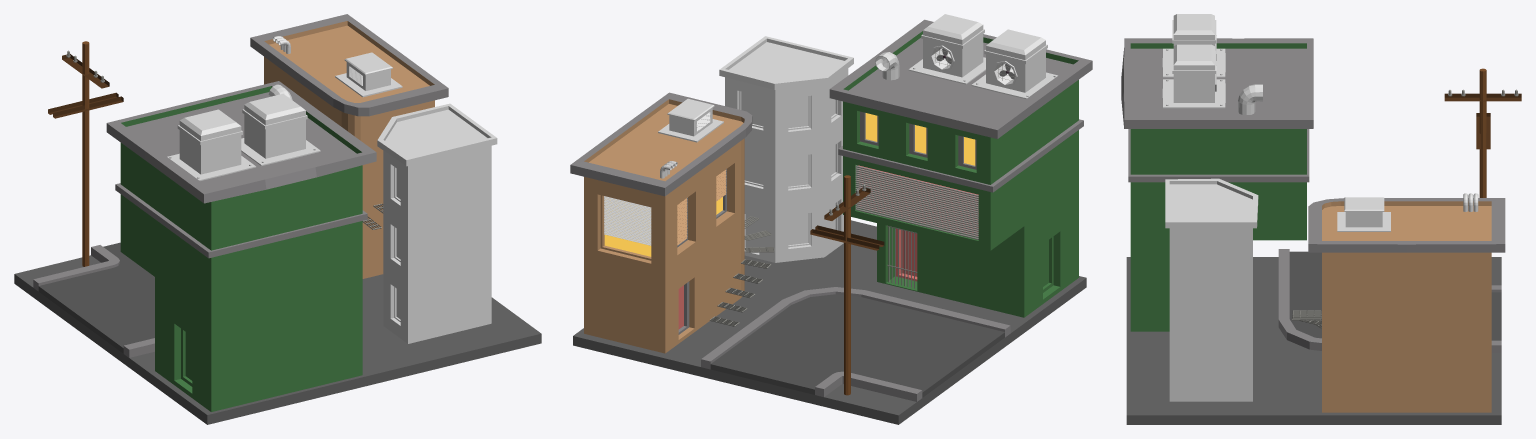
Rendered from cyber.glb.
The picture shows the model from 3 angles, left to right: view 1: azimuth 30°, elevation 25°; view 2: azimuth 150°, elevation 25°; view 3: azimuth 270°, elevation 25°; orthographic projection. The views are drawn at different scales.
Parts seen in each view (by area): view 1: Cube.001, Cube.002, Cube, Plane, Plane.001, Cube.005, Cube.006, Plane.009, Cube.007; view 2: Cube.001, Cube, Plane.001, Cube.002, Plane, Vert.005, Cube.006, Cube.005, Plane.009, story.002, Cube.007, Cube.003 (+3 smaller); view 3: Cube, Cube.001, Cube.002, Plane, Plane.001, Cube.006, Cube.005, Plane.009, Cube.007, Vert.001.
Part boxes in pixels (x1=…): Cube.001: x1=106, y1=81, x2=376, y2=411; Cube.002: x1=377, y1=103, x2=497, y2=343; Cube: x1=250, y1=14, x2=448, y2=278; Plane: x1=14, y1=255, x2=541, y2=424; Plane.001: x1=33, y1=242, x2=154, y2=357; Cube.005: x1=167, y1=109, x2=256, y2=180; Cube.006: x1=241, y1=93, x2=320, y2=165; Plane.009: x1=48, y1=41, x2=123, y2=266; Cube.007: x1=335, y1=52, x2=402, y2=97; Cube.001: x1=829, y1=19, x2=1092, y2=317; Cube: x1=570, y1=92, x2=752, y2=353; Plane.001: x1=701, y1=287, x2=1010, y2=401; Cube.002: x1=719, y1=36, x2=853, y2=262; Plane: x1=573, y1=220, x2=1086, y2=424; Vert.005: x1=855, y1=165, x2=978, y2=239; Cube.006: x1=908, y1=14, x2=985, y2=84; Cube.005: x1=971, y1=29, x2=1057, y2=98; Plane.009: x1=810, y1=175, x2=884, y2=395; story.002: x1=604, y1=196, x2=651, y2=245; Cube.007: x1=658, y1=98, x2=723, y2=142; Cube.003: x1=888, y1=227, x2=914, y2=288; Cube: x1=1308, y1=198, x2=1505, y2=412; Cube.001: x1=1121, y1=38, x2=1313, y2=331; Cube.002: x1=1165, y1=178, x2=1258, y2=401; Plane: x1=1126, y1=257, x2=1501, y2=424; Plane.001: x1=1278, y1=249, x2=1501, y2=353; Cube.006: x1=1162, y1=44, x2=1225, y2=108; Cube.005: x1=1162, y1=14, x2=1225, y2=77; Plane.009: x1=1444, y1=68, x2=1521, y2=197; Cube.007: x1=1337, y1=197, x2=1390, y2=231; Vert.001: x1=1238, y1=84, x2=1262, y2=114.
Bounding box in the file's own units: 8.14 × 6.18 × 8.54.
